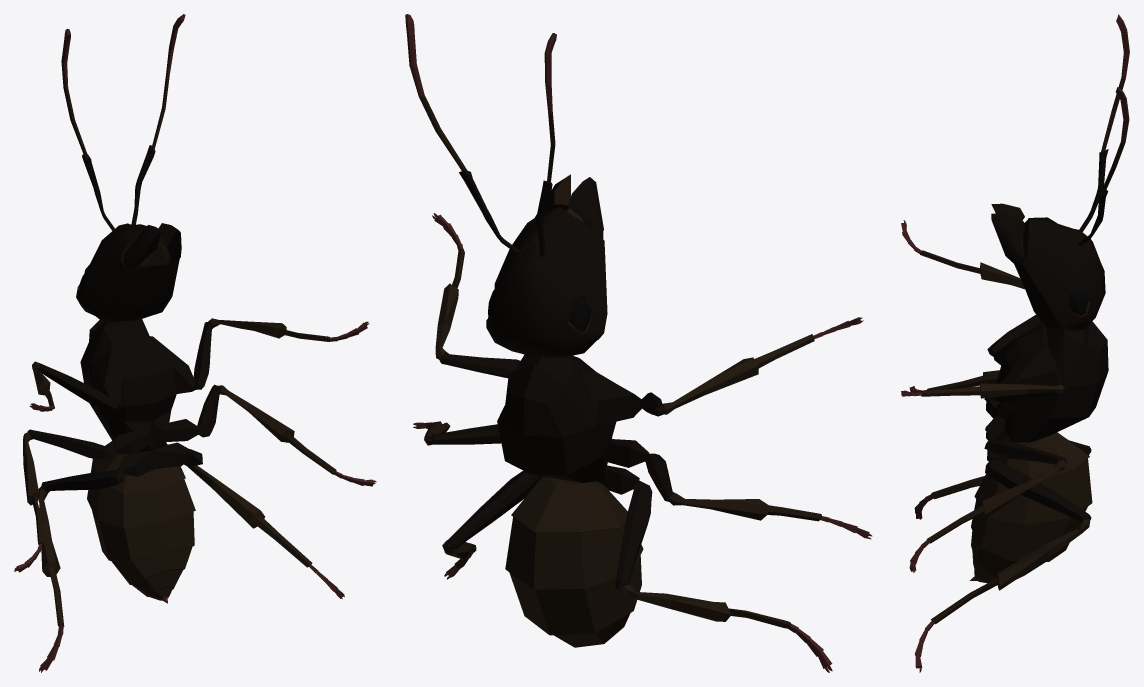
The model's file is ant.glb.
3 renders of one model, left to right at view 1: azimuth 30°, elevation 25°; view 2: azimuth 150°, elevation 25°; view 3: azimuth 270°, elevation 25°, orthographic. The views are drawn at different scales.
Parts seen in each view (by area): view 1: Body.024, Body.023, Head.015, Left_Leg_02.180, Left_Leg_02.177, Left_Leg_02.189, Left_Leg_02.188, Left_Leg_02.191, Left_Leg_02.185, Left_Leg_02.183, Left_Leg_02.192, Left_Leg_02.182 (+1 smaller); view 2: Head.015, Body.023, Body.024, Left_Leg_02.189, Left_Leg_02.179, Left_Leg_02.186, Left_Leg_02.188, Left_Leg_02.192, Left_Leg_02.183, Left_Leg_02.182, Left_Leg_02.176, Left_Leg_02.191; view 3: Head.015, Body.024, Body.023, Left_Leg_02.180, Left_Leg_02.179, Left_Leg_02.177, Left_Leg_02.183, Left_Leg_02.176, Left_Leg_02.186, Left_Leg_02.185, Left_Leg_02.192, Left_Leg_02.189 (+1 smaller).
Boxes of the visible parts, x1,y1,x2,y2 form: Body.024: (80,319,200,476); Body.023: (87,441,195,603); Head.015: (61,14,185,323); Left_Leg_02.180: (184,464,312,567); Left_Leg_02.177: (218,385,336,474); Left_Leg_02.189: (38,486,64,626); Left_Leg_02.188: (41,469,123,492); Left_Leg_02.191: (27,429,118,459); Left_Leg_02.185: (38,363,118,410); Left_Leg_02.183: (208,318,329,341); Left_Leg_02.192: (23,432,43,545); Left_Leg_02.182: (193,322,213,389); Head.015: (405,14,607,357); Body.023: (505,476,643,647); Body.024: (497,354,648,494); Left_Leg_02.189: (619,584,791,628); Left_Leg_02.179: (447,470,542,548); Left_Leg_02.186: (658,334,814,414); Left_Leg_02.188: (615,480,652,589); Left_Leg_02.192: (668,493,821,521); Left_Leg_02.183: (435,248,464,359); Left_Leg_02.182: (439,351,520,378); Left_Leg_02.176: (430,424,501,444); Left_Leg_02.191: (644,453,675,501); Head.015: (991,14,1129,331); Body.024: (986,321,1108,463); Body.023: (970,432,1092,583); Left_Leg_02.180: (931,519,1090,624); Left_Leg_02.179: (985,459,1091,521); Left_Leg_02.177: (926,460,1065,543); Left_Leg_02.183: (920,383,1065,398); Left_Leg_02.176: (984,439,1067,464); Left_Leg_02.186: (920,250,1024,289); Left_Leg_02.185: (987,315,1043,356); Left_Leg_02.192: (927,370,999,390); Left_Leg_02.189: (930,453,1089,499).
Bounding box in the file's own units: 8.07 × 11.59 × 4.24.
